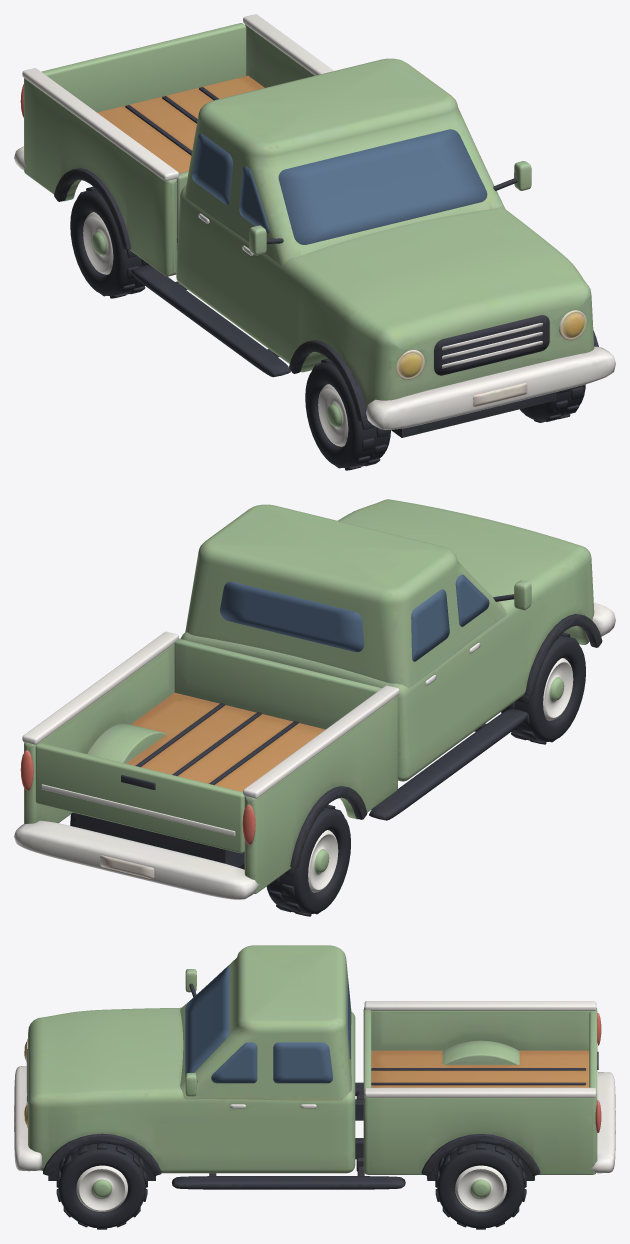
Rendered from pickup-truck.glb.
3 views of the same model, one above another, from view 1: azimuth 30°, elevation 25°; view 2: azimuth 150°, elevation 25°; view 3: azimuth 270°, elevation 25° (orthographic). The views are drawn at different scales.
Parts seen in each view (by area): view 1: pickup-truck_body, pickup-truck_windows, pickup-truck_tailgate, pickup-truck_wheel_fr, pickup-truck_wheel_rr, pickup-truck_wheel_fl; view 2: pickup-truck_body, pickup-truck_tailgate, pickup-truck_windows, pickup-truck_wheel_rr, pickup-truck_wheel_fr; view 3: pickup-truck_body, pickup-truck_windows, pickup-truck_wheel_rl, pickup-truck_wheel_fl, pickup-truck_tailgate.
Part boxes in pixels (box(x1,y1,x2,y2)): pickup-truck_body: box(14, 14, 615, 437); pickup-truck_windows: box(192, 129, 487, 244); pickup-truck_tailgate: box(41, 23, 246, 112); pickup-truck_wheel_fr: box(305, 359, 390, 470); pickup-truck_wheel_rr: box(70, 186, 150, 298); pickup-truck_wheel_fl: box(520, 384, 585, 422); pickup-truck_body: box(14, 499, 615, 899); pickup-truck_tailgate: box(35, 743, 244, 853); pickup-truck_windows: box(220, 574, 489, 661); pickup-truck_wheel_rr: box(266, 804, 350, 916); pickup-truck_wheel_fr: box(501, 632, 585, 744); pickup-truck_body: box(14, 945, 615, 1189); pickup-truck_windows: box(185, 966, 350, 1083); pickup-truck_wheel_rl: box(435, 1143, 526, 1229); pickup-truck_wheel_fl: box(56, 1143, 147, 1229); pickup-truck_tailgate: box(589, 1011, 598, 1100).
Size of the model in its own units: 2.26 by 1.97 by 5.28.
7 materials, 1 textured.
